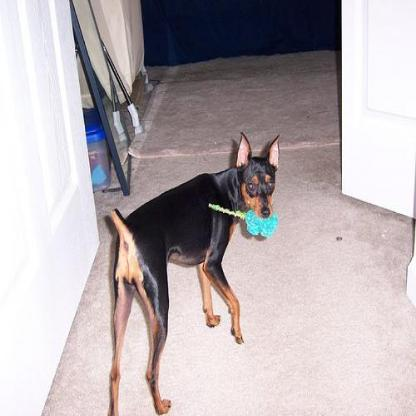miniature_pinscher: (105, 128, 286, 414)
